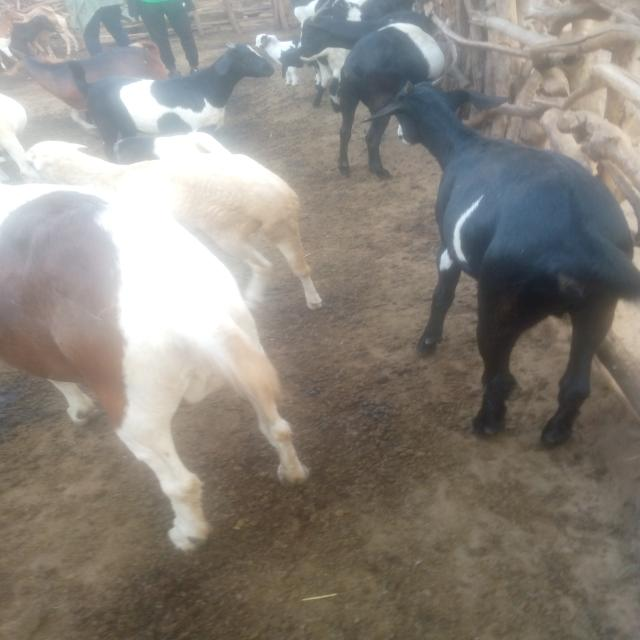goat: (349, 54, 640, 491)
